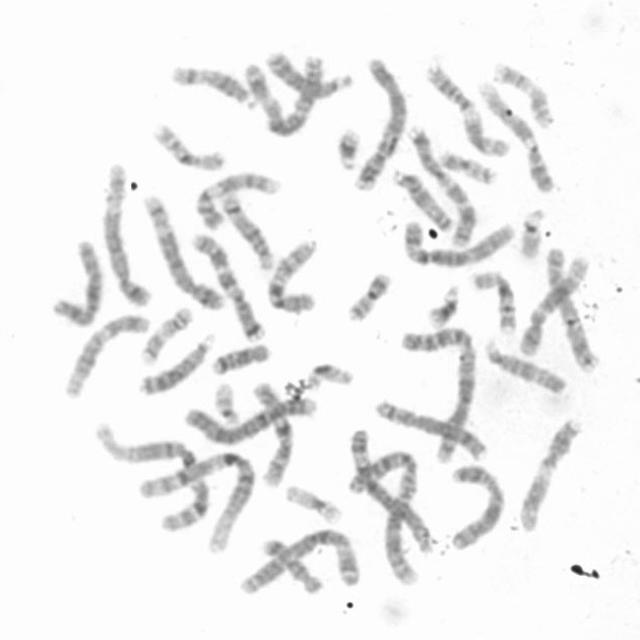A1: (90, 418, 214, 536), (133, 444, 260, 552)
A2: (345, 425, 427, 577), (397, 320, 482, 462)
A3: (233, 523, 364, 598), (241, 47, 326, 139)
B4: (348, 53, 409, 192), (179, 389, 318, 446)
B5: (138, 188, 225, 312), (98, 158, 154, 308)
C10: (249, 376, 296, 488), (262, 234, 320, 316)
C11: (421, 57, 511, 158), (514, 412, 585, 534)
C12: (59, 306, 152, 399), (513, 250, 591, 358)
C6: (346, 423, 438, 557), (396, 216, 517, 268)
C7: (400, 120, 481, 248), (187, 226, 268, 342)
C8: (542, 244, 604, 374), (370, 394, 488, 462)
C9: (474, 76, 557, 194), (190, 166, 284, 232)
D13: (133, 328, 218, 398), (263, 46, 356, 99)
D14: (218, 188, 278, 272), (167, 59, 261, 111)
D15: (479, 334, 569, 396), (388, 164, 456, 234)
E16: (146, 116, 228, 172), (467, 264, 519, 336)
E17: (488, 56, 556, 129), (135, 300, 195, 366)
E18: (257, 533, 326, 596), (205, 338, 272, 377)
F19: (280, 479, 344, 526), (298, 356, 356, 391)
F20: (342, 266, 394, 324), (436, 146, 500, 186)
G21: (422, 280, 462, 330), (332, 123, 363, 171)
G22: (515, 202, 549, 260), (208, 376, 244, 426)
X: (444, 458, 508, 552), (46, 234, 104, 328)
